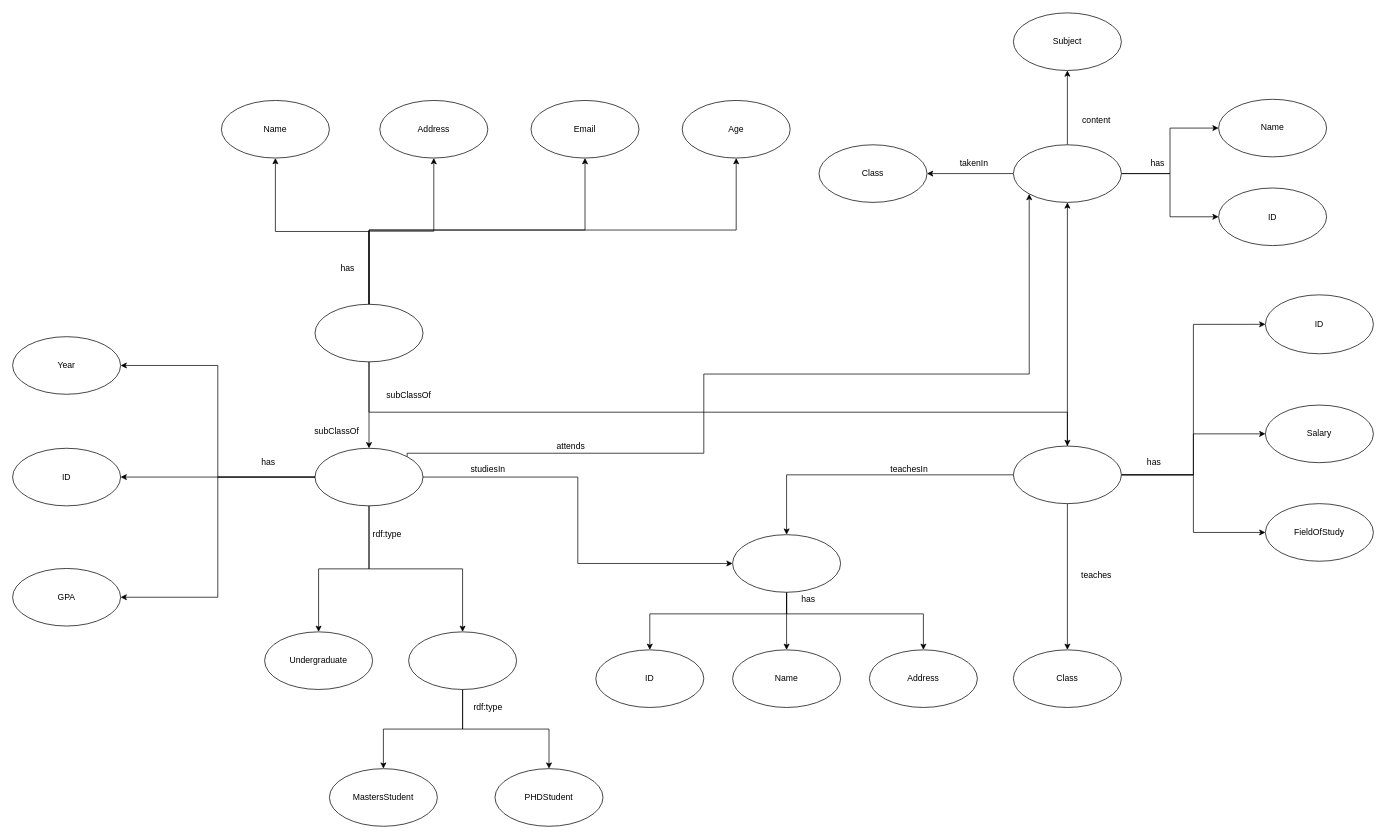
This 1386x839 diagram has some shape labels left out. The centre of each missing label's shape, as x and y in pixels:
Course: point 1067,173
Graduate: point 462,660
Person: point 368,333
Professor: point 1067,474
Student: point 368,477
University: point 786,563
